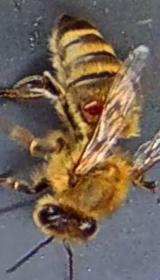varroa_mite: (68, 93, 122, 125)
